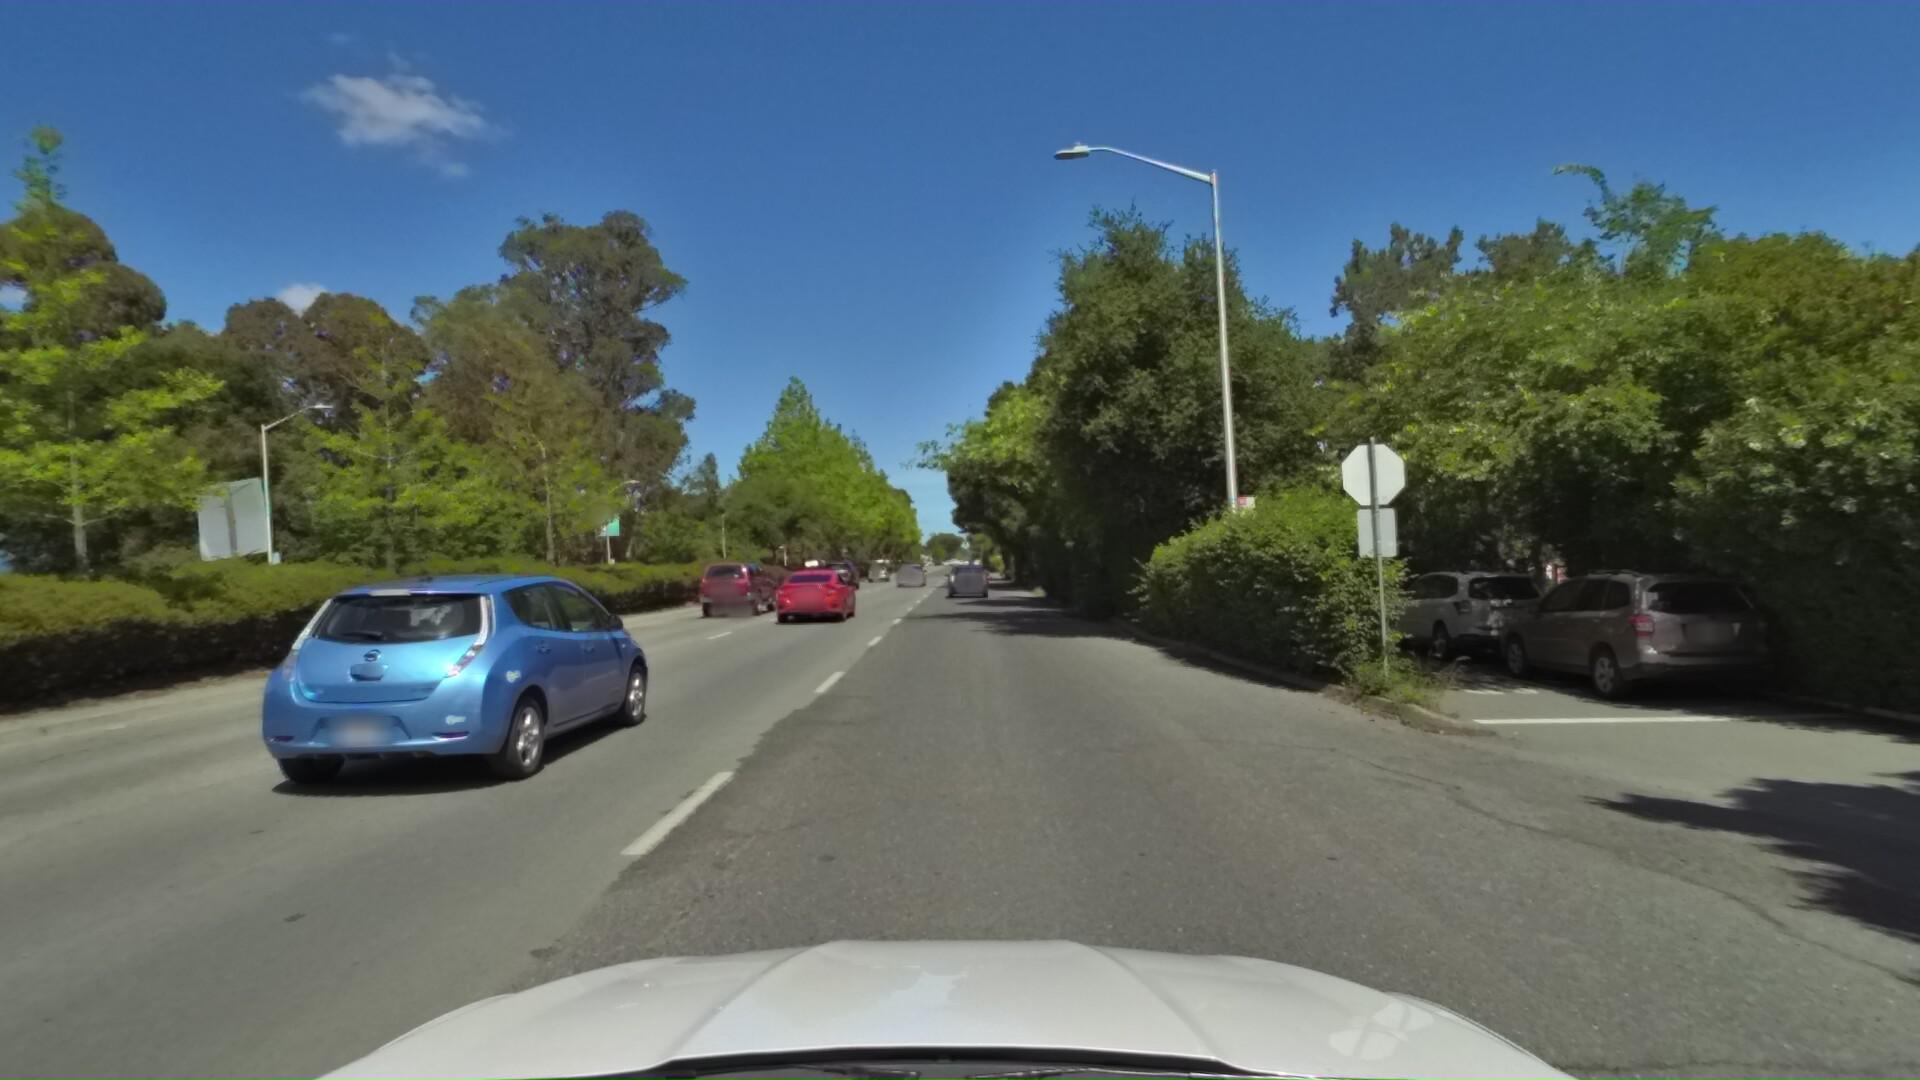car: (210, 560, 661, 806), (1493, 564, 1838, 723), (1375, 560, 1581, 676), (767, 562, 857, 625), (694, 555, 781, 617), (940, 559, 992, 599), (822, 555, 864, 589), (891, 559, 926, 585), (865, 559, 891, 580)
